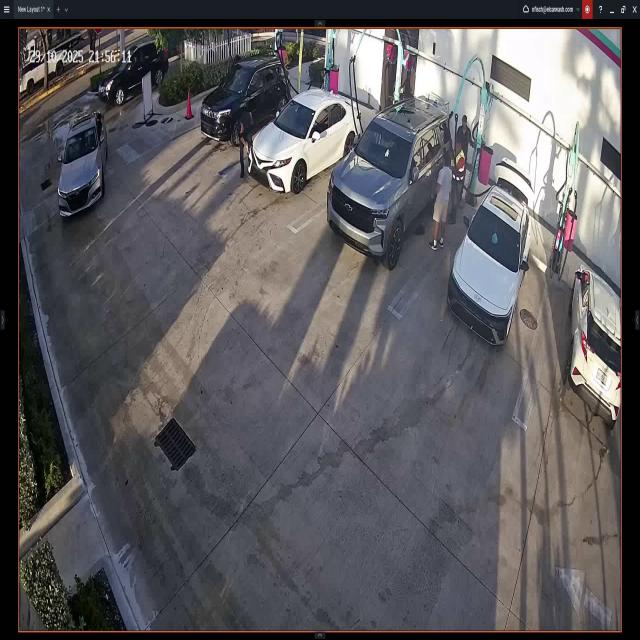Car: (328, 96, 453, 268), (447, 166, 532, 347), (249, 86, 363, 198), (568, 266, 620, 432), (200, 58, 292, 145), (59, 114, 106, 218), (98, 42, 166, 106)
